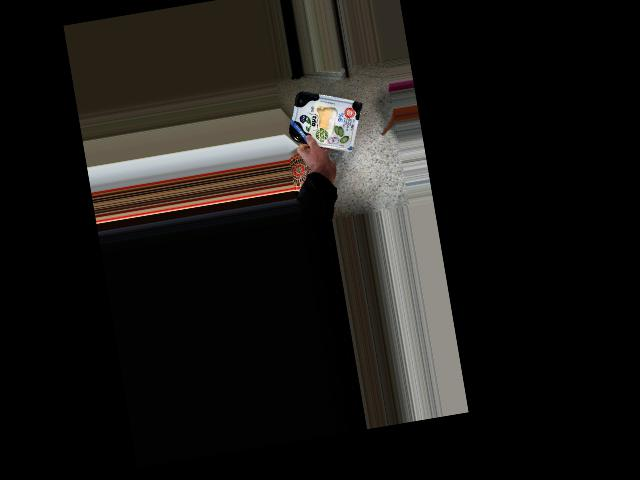cheese: (291, 91, 360, 152)
